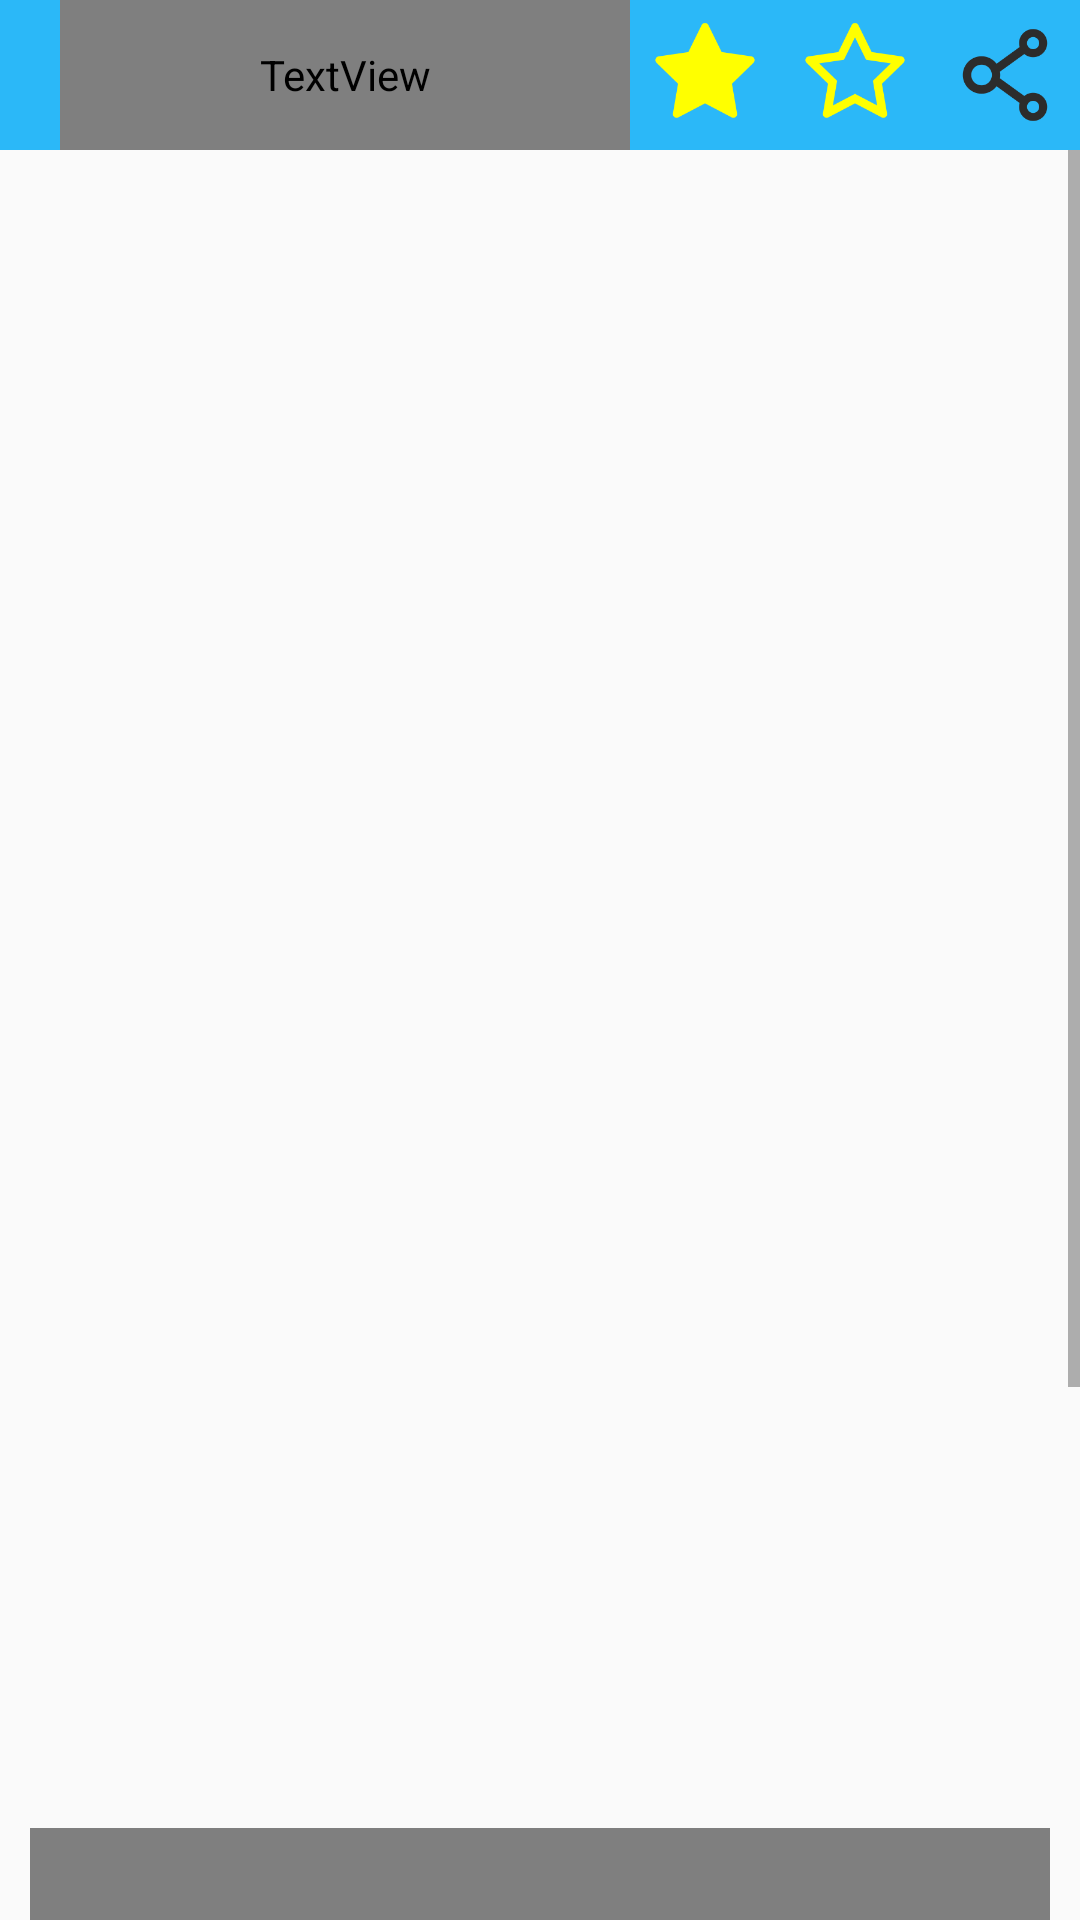

Point at icon controls on the screen. Image size 1080px x 1920px, points as (x=x, y=y).
share: (x=1005, y=75)
star: (x=705, y=70), (x=855, y=70)
